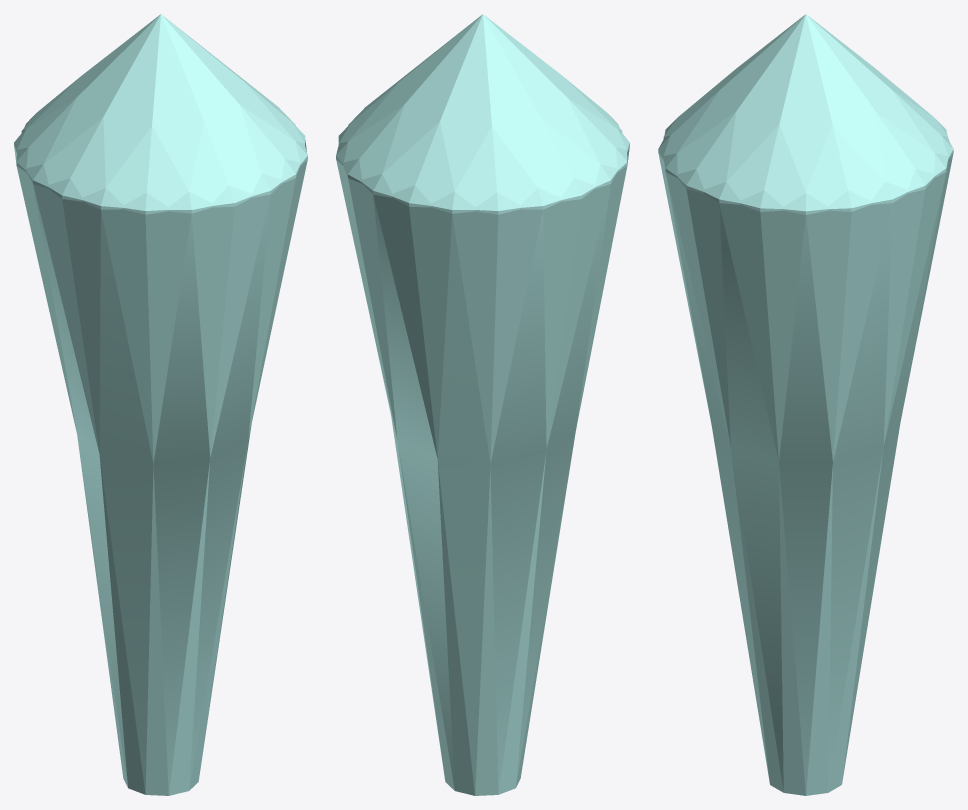
The model's file is single-crystal.scaled.fbx.
3 views of the same model, side by side, from view 1: azimuth 30°, elevation 25°; view 2: azimuth 150°, elevation 25°; view 3: azimuth 270°, elevation 25° (orthographic).
Parts seen in each view (by area): view 1: pPlane2; view 2: pPlane2; view 3: pPlane2.
Part boxes in pixels (x1,y1,x2,y2): pPlane2: (14, 14, 307, 795); pPlane2: (336, 14, 629, 795); pPlane2: (658, 14, 953, 795).
Size of the model in its own units: 431 by 1233 by 431.
